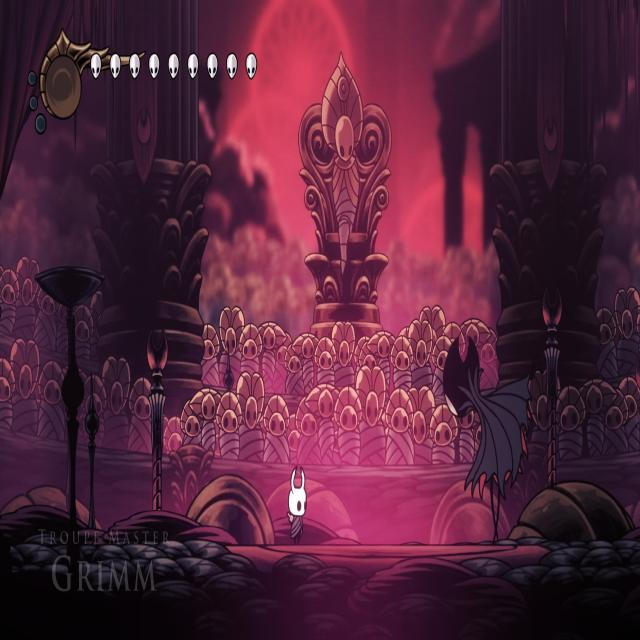Grimm: (438, 328, 538, 548)
Player: (284, 459, 309, 546)
